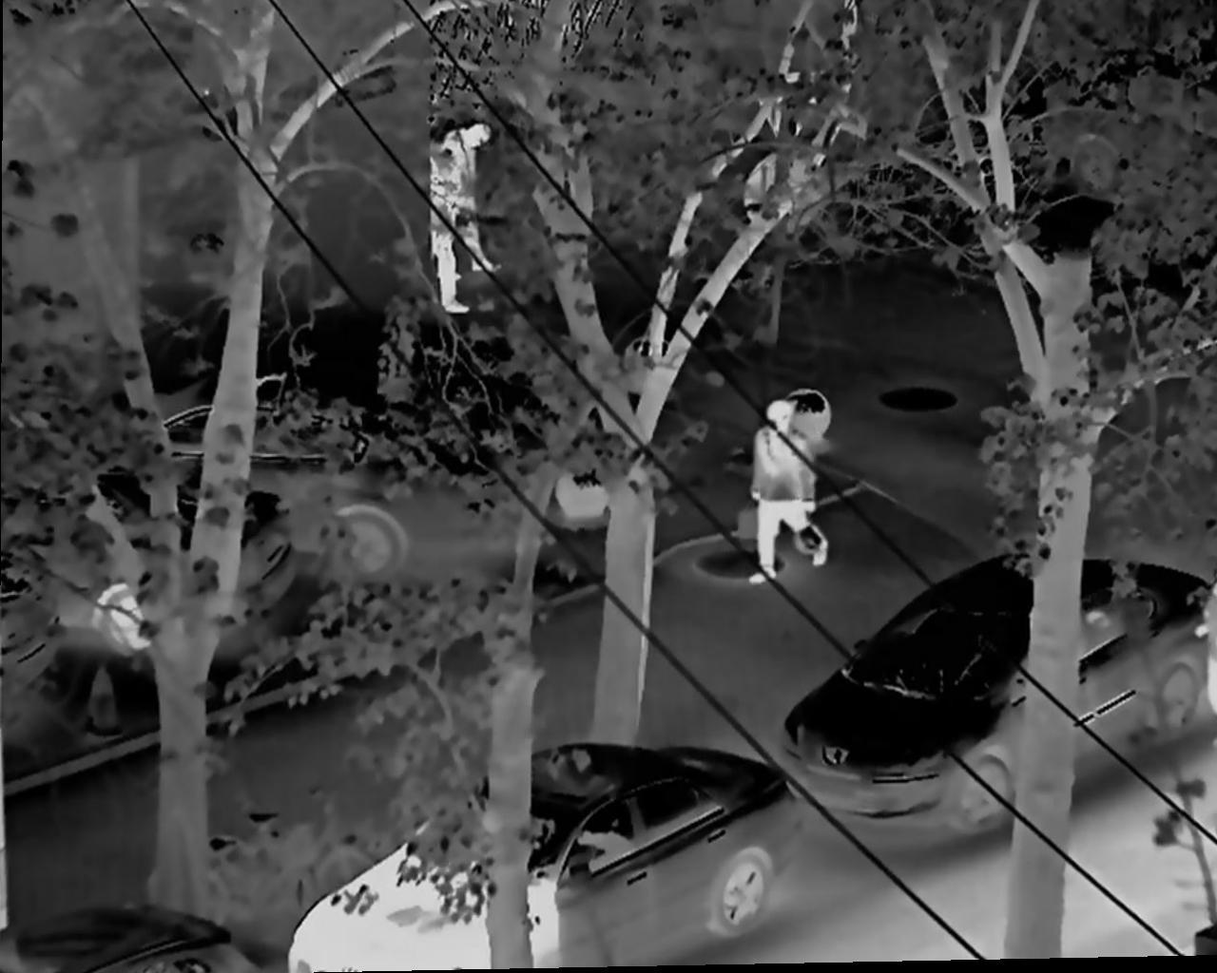person: (747, 400, 827, 585), (448, 122, 496, 275), (429, 141, 468, 315)
